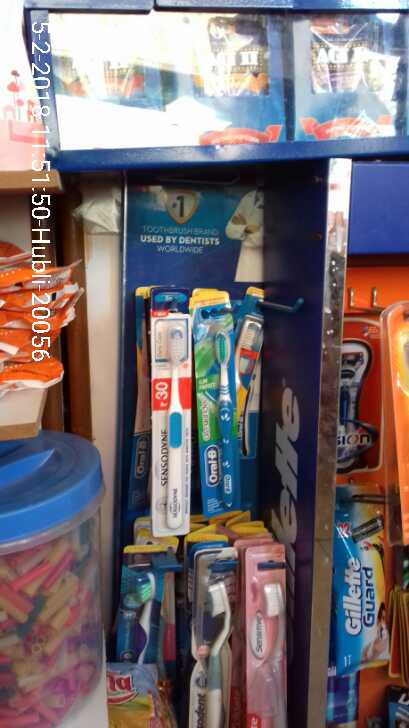beauty: (186, 299, 244, 505), (147, 309, 197, 539), (323, 511, 391, 675), (244, 536, 294, 728), (190, 550, 240, 728)
